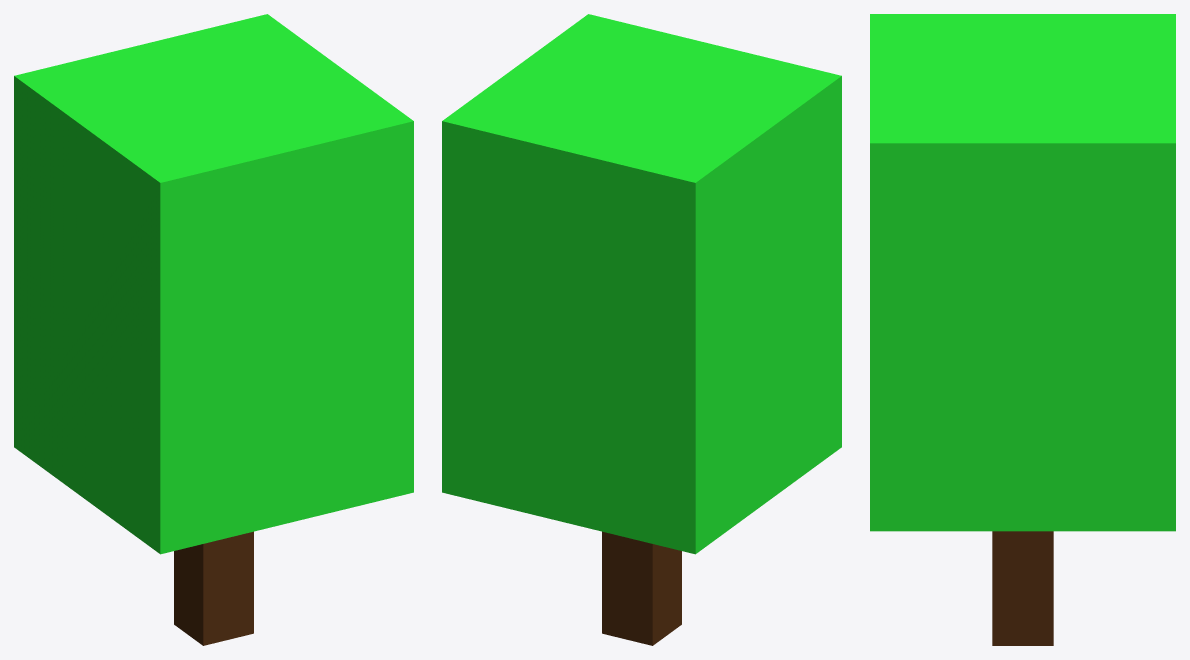
The model's file is Berry_Bush_(Stage 5).obj.
3 renders of one model, left to right at view 1: azimuth 30°, elevation 25°; view 2: azimuth 150°, elevation 25°; view 3: azimuth 270°, elevation 25°, orthographic. The views are drawn at different scales.
Bounding box in the file's own units: 0.5 × 1 × 0.5.
1 material, 1 textured.
